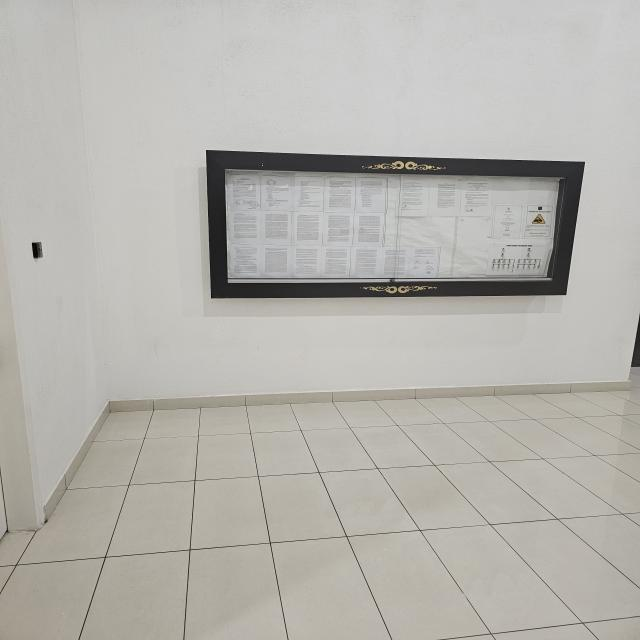footpath: (65, 393, 640, 640)
